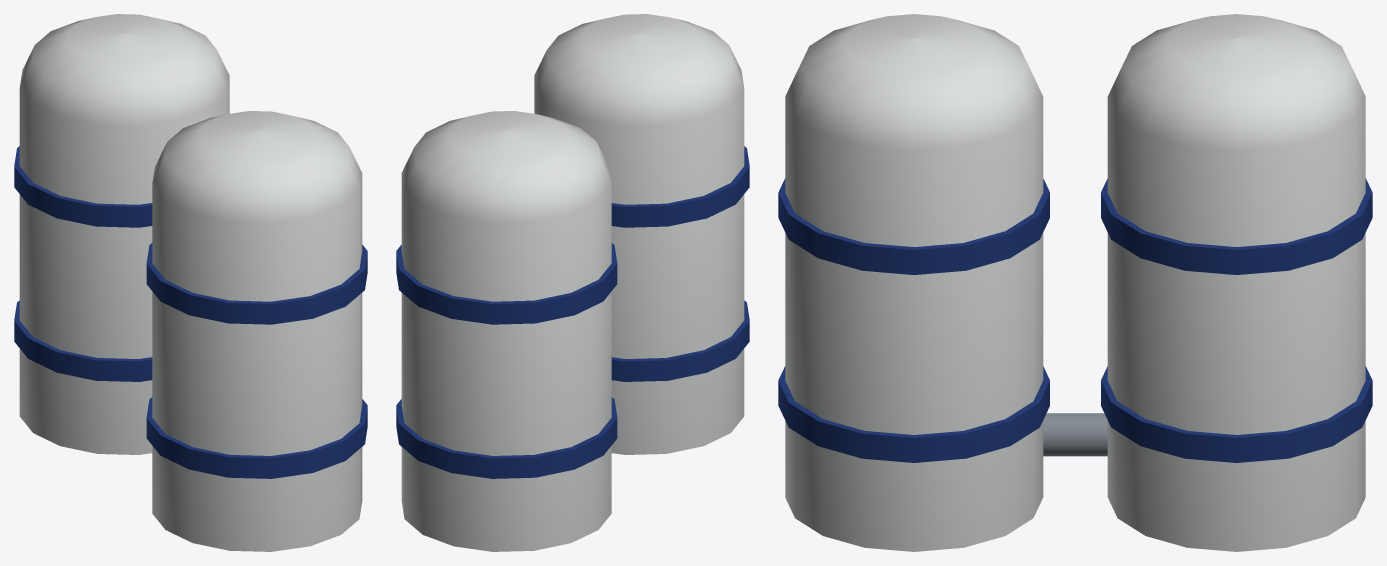
Rendered from l20_water.obj.
3 renders of one model, left to right at view 1: azimuth 30°, elevation 25°; view 2: azimuth 150°, elevation 25°; view 3: azimuth 270°, elevation 25°, orthographic. The views are drawn at different scales.
Parts seen in each view (by area): view 1: l20_water; view 2: l20_water; view 3: l20_water.
Boxes of the visible parts, x1,y1,x2,y2 form: l20_water: [14, 14, 367, 551]; l20_water: [396, 14, 749, 551]; l20_water: [778, 14, 1372, 551].
Size of the model in its own units: 0.59 by 1.1 by 1.29.
